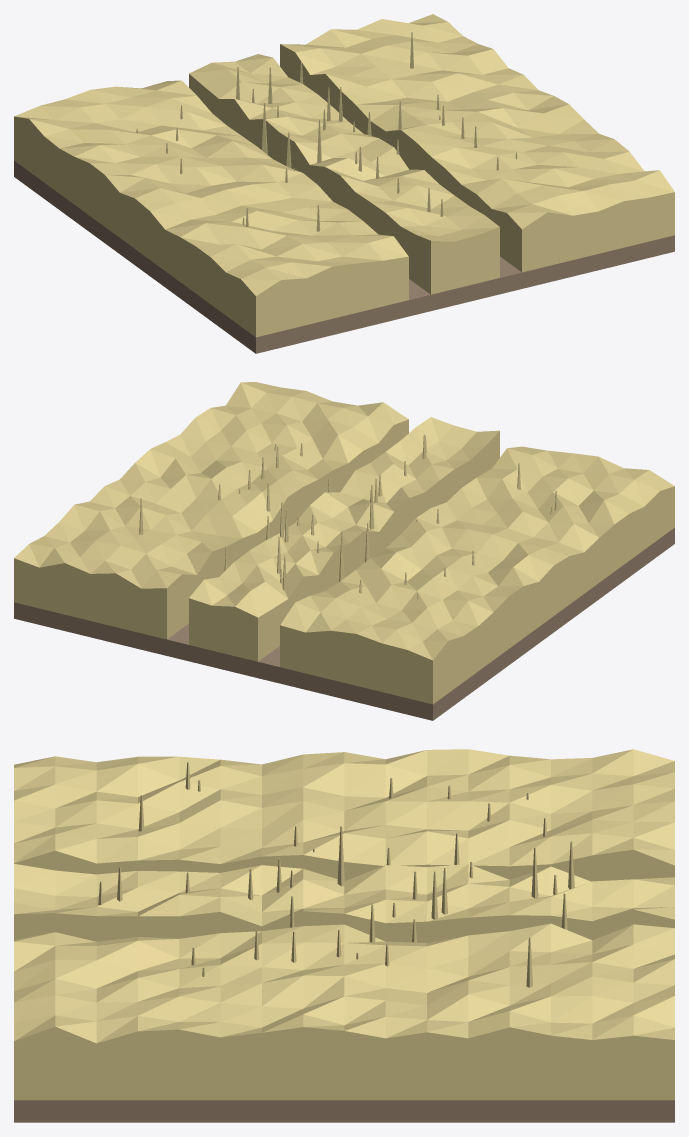
File: arable-fields-and-farm-machinery-field-tile-tramline-f3737e12__16877.glb
3 views of the same model, one above another, from view 1: azimuth 30°, elevation 25°; view 2: azimuth 150°, elevation 25°; view 3: azimuth 270°, elevation 25° (orthographic). The views are drawn at different scales.
Visible parts, largest first — view 1: field-tile-tramline; view 2: field-tile-tramline; view 3: field-tile-tramline.
Boxes of the visible parts, x1,y1,x2,y2 form: field-tile-tramline: (14, 14, 674, 353); field-tile-tramline: (14, 382, 674, 720); field-tile-tramline: (14, 749, 674, 1122).
Bounding box in the file's own units: 8 × 1.86 × 8.
